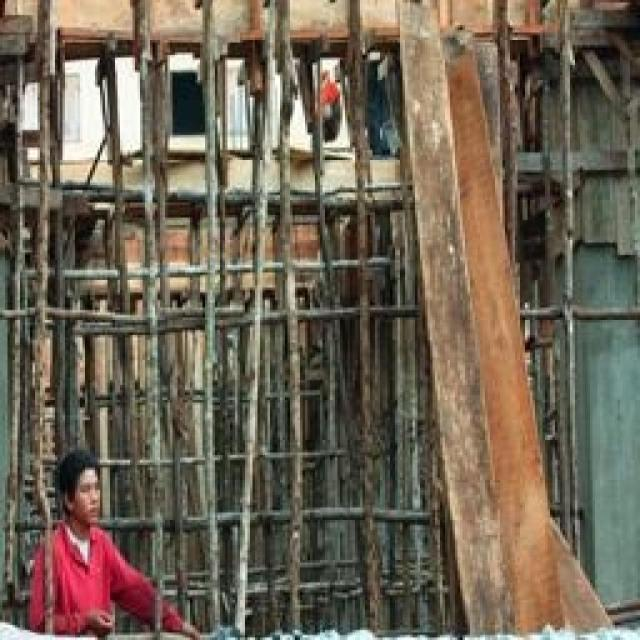Helmet: (19, 499, 128, 640), (50, 438, 116, 547)
